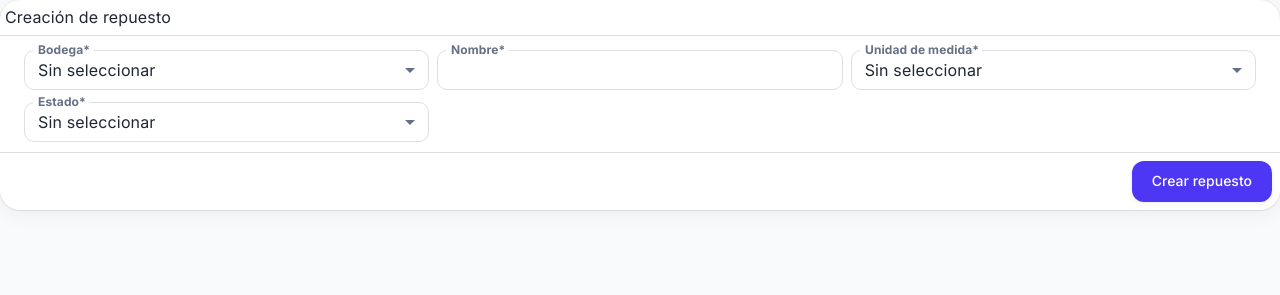
Test case: FormularioCrearRepuesto › valida al vuelo: volver a "Sin seleccionar" muestra el error
Click the dropdown labelled "Sin seleccionar" next to "Estado*".
click(97, 122)  # box [38, 112, 156, 132]
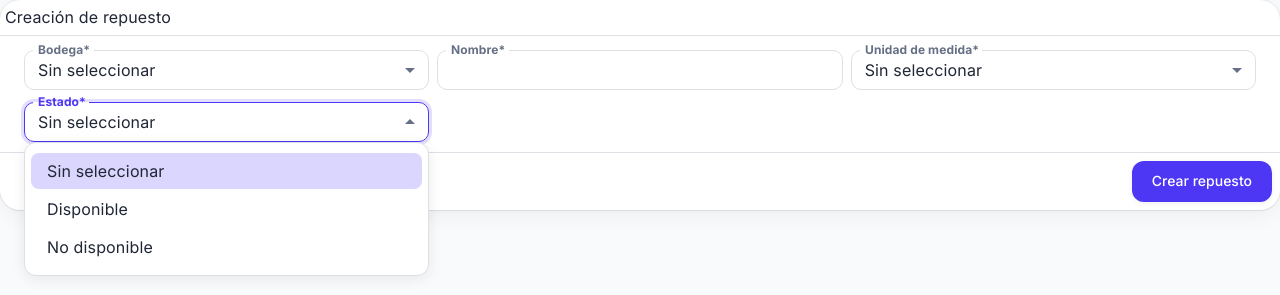
Click the option "Disponible".
click(88, 209)  # box [47, 199, 128, 219]
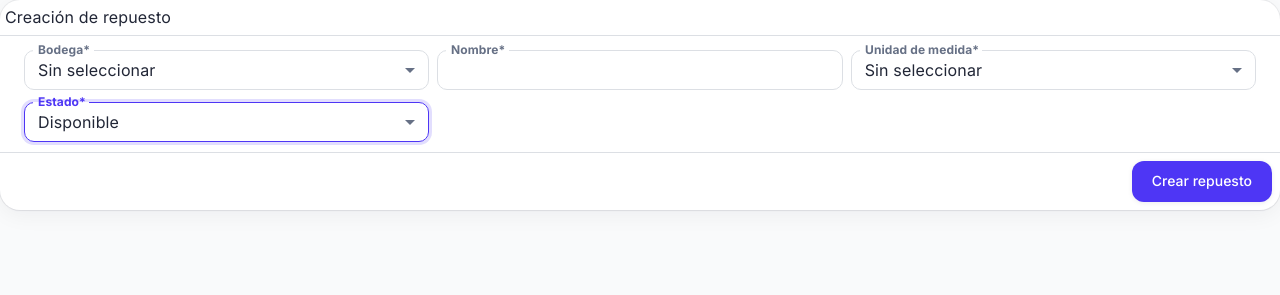
Expected: the text "El estado es obligatorio." is not shown
Result: the list is gone
Click the dropdown labelled "Disponible".
click(79, 122)  # box [38, 112, 119, 132]
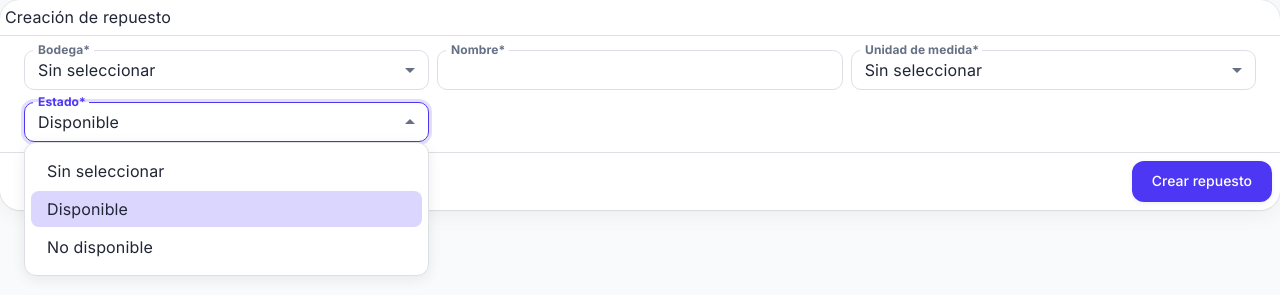
Click the option "Sin seleccionar".
click(106, 171)  # box [47, 161, 164, 181]
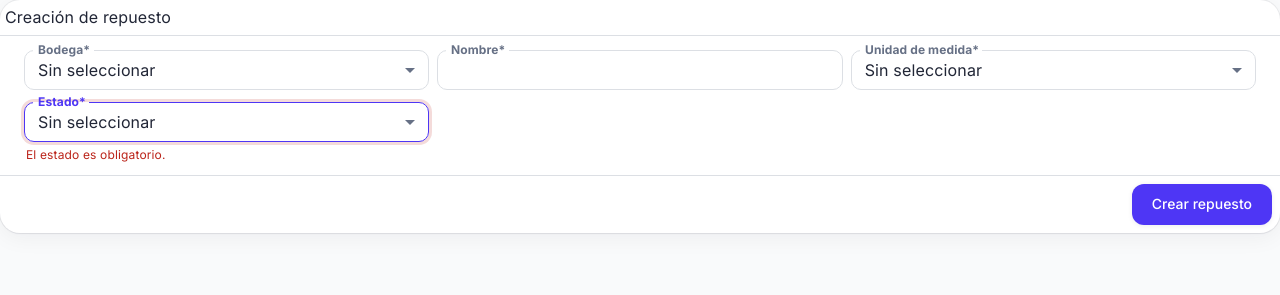
Result: the list is gone
Result: the text "El estado es obligatorio." is shown at [26, 147, 166, 162]
Click the dropdown labelled "Sin seleccionar" next to "Bodega*".
click(97, 70)  # box [38, 60, 156, 80]
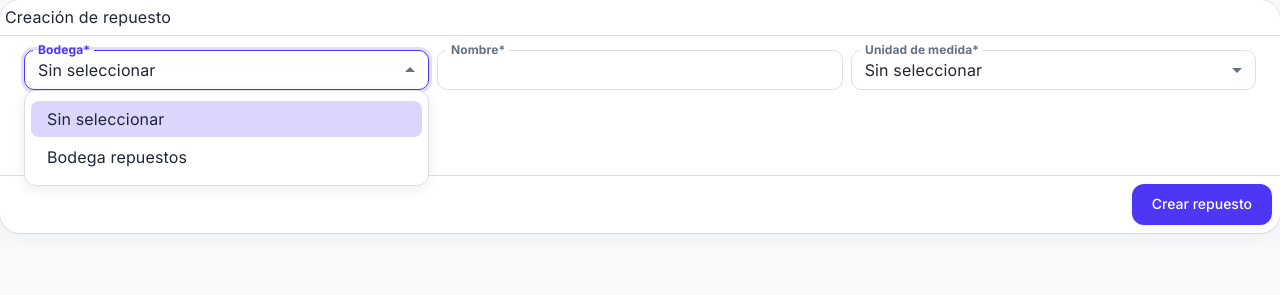
Click the option "Sin seleccionar".
click(106, 119)  # box [31, 101, 422, 137]
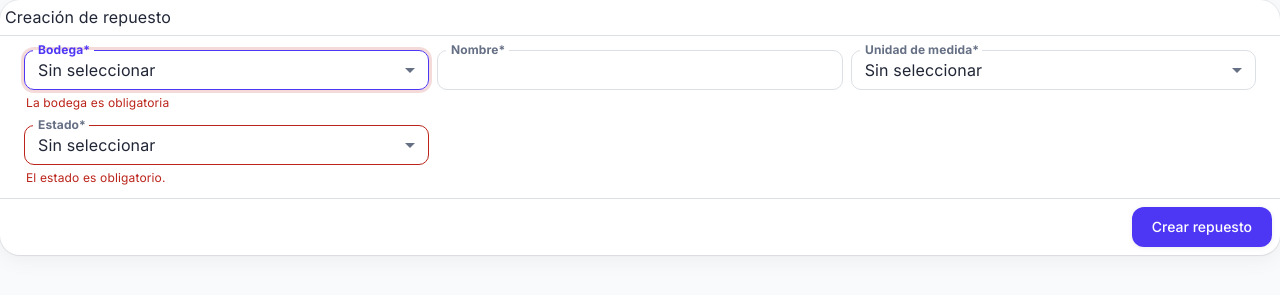
Result: the list is gone
Result: the text "La bodega es obligatoria" is shown at [26, 95, 169, 110]
